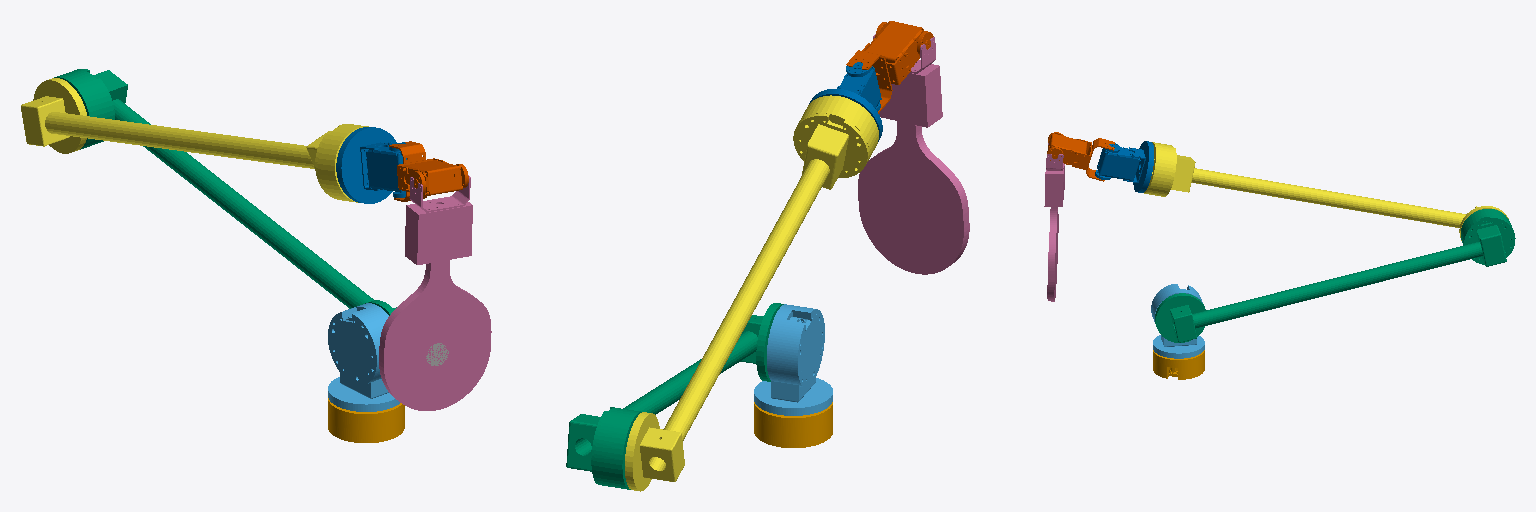
The robot description file, URDF, robot "tennis_player_bot":
<?xml version="1.0" ?>
<robot name="tennis_player_bot">

<material name="silver">
  <color rgba="0.700 0.700 0.700 1.000"/>
</material>

<link name="base_link">
  <inertial>
    <origin xyz="0.0032512986429543357 0.00020816639070417385 0.020789507513805882" rpy="0 0 0"/>
    <mass value="1.745901748133326"/>
    <inertia ixx="0.0011956848580423891" iyy="0.0011467821826484145" izz="0.0018948839982281653" ixy="-1.3515159114245922e-05" iyz="3.408751819674677e-06" ixz="-1.3187187417668591e-05"/>
  </inertial>
  <visual>
    <origin xyz="0 0 0" rpy="0 0 0"/>
    <geometry>
      <mesh filename="package://tennis_player_bot/meshes/base_link.stl" scale="0.001 0.001 0.001"/>
    </geometry>
    <material name="silver"/>
    <material/>
  </visual>
  <collision>
    <origin xyz="0 0 0" rpy="0 0 0"/>
    <geometry>
      <mesh filename="package://tennis_player_bot/meshes/base_link.stl" scale="0.001 0.001 0.001"/>
    </geometry>
  </collision>
</link>

<link name="link11">
  <inertial>
    <origin xyz="-0.0007496042612608893 -0.0003450000512975077 0.0506780692966114" rpy="0 0 0"/>
    <mass value="2.466802512638024"/>
    <inertia ixx="0.0040481047604247755" iyy="0.0032971733819744525" izz="0.0018405145912772296" ixy="0.00012848963394801227" iyz="2.5695094292537527e-05" ixz="1.810660767914327e-05"/>
  </inertial>
  <visual>
    <origin xyz="-0.004 -0.0 -0.0415" rpy="0 0 0"/>
    <geometry>
      <mesh filename="package://tennis_player_bot/meshes/link11.stl" scale="0.001 0.001 0.001"/>
    </geometry>
    <material name="silver"/>
    <material/>
  </visual>
  <collision>
    <origin xyz="-0.004 -0.0 -0.0415" rpy="0 0 0"/>
    <geometry>
      <mesh filename="package://tennis_player_bot/meshes/link11.stl" scale="0.001 0.001 0.001"/>
    </geometry>
  </collision>
</link>

<link name="link21">
  <inertial>
    <origin xyz="-0.05274635772139816 0.36565424086879056 0.07219767724014502" rpy="0 0 0"/>
    <mass value="4.18904362063526"/>
    <inertia ixx="0.23849012204239617" iyy="0.022147013255569364" izz="0.23943346179668612" ixy="0.04725189342993831" iyz="-0.045150824234903075" ixz="0.009432202370029365"/>
  </inertial>
  <visual>
    <origin xyz="-0.023044 -0.003201 -0.110417" rpy="0 0 0"/>
    <geometry>
      <mesh filename="package://tennis_player_bot/meshes/link21.stl" scale="0.001 0.001 0.001"/>
    </geometry>
    <material name="silver"/>
    <material/>
  </visual>
  <collision>
    <origin xyz="-0.023044 -0.003201 -0.110417" rpy="0 0 0"/>
    <geometry>
      <mesh filename="package://tennis_player_bot/meshes/link21.stl" scale="0.001 0.001 0.001"/>
    </geometry>
  </collision>
</link>

<link name="link31">
  <inertial>
    <origin xyz="0.037676355295301237 -0.3790942096583749 0.09993796143896319" rpy="0 0 0"/>
    <mass value="4.1731758749862395"/>
    <inertia ixx="0.268564329913324" iyy="0.02624821743989647" izz="0.2565863142198408" ixy="0.037776002486565104" iyz="0.06591173346759693" ixz="-0.010020545727296395"/>
  </inertial>
  <visual>
    <origin xyz="0.101203 -0.542968 -0.218674" rpy="0 0 0"/>
    <geometry>
      <mesh filename="package://tennis_player_bot/meshes/link31.stl" scale="0.001 0.001 0.001"/>
    </geometry>
    <material name="silver"/>
    <material/>
  </visual>
  <collision>
    <origin xyz="0.101203 -0.542968 -0.218674" rpy="0 0 0"/>
    <geometry>
      <mesh filename="package://tennis_player_bot/meshes/link31.stl" scale="0.001 0.001 0.001"/>
    </geometry>
  </collision>
</link>

<link name="link41">
  <inertial>
    <origin xyz="0.00471564668433672 -0.02732509003557252 0.007657759398025155" rpy="0 0 0"/>
    <mass value="1.0430025260758924"/>
    <inertia ixx="0.0012605823289593698" iyy="0.0008177564199379483" izz="0.001125109998628332" ixy="7.541579629199643e-05" iyz="9.667262457412756e-05" ixz="-2.8476751138858947e-05"/>
  </inertial>
  <visual>
    <origin xyz="0.02881 0.057138 -0.377644" rpy="0 0 0"/>
    <geometry>
      <mesh filename="package://tennis_player_bot/meshes/link41.stl" scale="0.001 0.001 0.001"/>
    </geometry>
    <material name="silver"/>
    <material/>
  </visual>
  <collision>
    <origin xyz="0.02881 0.057138 -0.377644" rpy="0 0 0"/>
    <geometry>
      <mesh filename="package://tennis_player_bot/meshes/link41.stl" scale="0.001 0.001 0.001"/>
    </geometry>
  </collision>
</link>

<link name="link51">
  <inertial>
    <origin xyz="-0.004527161069972353 -0.07570016570955497 -0.013329447088193724" rpy="0 0 0"/>
    <mass value="0.5913059427072911"/>
    <inertia ixx="0.0004863955743631687" iyy="0.00028340326725498355" izz="0.0005545748428425479" ixy="-6.976199802226531e-06" iyz="8.034607593396942e-05" ixz="6.246198123573653e-06"/>
  </inertial>
  <visual>
    <origin xyz="0.015274 0.117131 -0.427156" rpy="0 0 0"/>
    <geometry>
      <mesh filename="package://tennis_player_bot/meshes/link51.stl" scale="0.001 0.001 0.001"/>
    </geometry>
    <material name="silver"/>
    <material/>
  </visual>
  <collision>
    <origin xyz="0.015274 0.117131 -0.427156" rpy="0 0 0"/>
    <geometry>
      <mesh filename="package://tennis_player_bot/meshes/link51.stl" scale="0.001 0.001 0.001"/>
    </geometry>
  </collision>
</link>

<link name="link61">
  <inertial>
    <origin xyz="0.026167147591899243 -0.0049238598741725426 -0.15456446509579097" rpy="0 0 0"/>
    <mass value="3.2230966737650197"/>
    <inertia ixx="0.0215123931155069" iyy="0.02450343937986313" izz="0.0033008247029437388" ixy="0.00010779727936325104" iyz="-0.00048659607540865735" ixz="-0.0008396729745024298"/>
  </inertial>
  <visual>
    <origin xyz="0.052299 0.216045 -0.422105" rpy="0 0 0"/>
    <geometry>
      <mesh filename="package://tennis_player_bot/meshes/link61.stl" scale="0.001 0.001 0.001"/>
    </geometry>
    <material name="silver"/>
    <material/>
  </visual>
  <collision>
    <origin xyz="0.052299 0.216045 -0.422105" rpy="0 0 0"/>
    <geometry>
      <mesh filename="package://tennis_player_bot/meshes/link61.stl" scale="0.001 0.001 0.001"/>
    </geometry>
  </collision>
</link>

<link name="paddle_center1">
  <inertial>
    <origin xyz="0.00010667337392668633 0.0024966191096613133 -6.119353965117202e-05" rpy="0 0 0"/>
    <mass value="0.027744190122014827"/>
    <inertia ixx="1.6211466780931098e-06" iyy="3.1175767253304332e-06" izz="1.619320166204542e-06" ixy="6.403982343001309e-08" iyz="-3.6916867814876936e-08" ixz="-1.5769769806943564e-09"/>
  </inertial>
  <visual>
    <origin xyz="0.029682 0.228834 -0.196078" rpy="0 0 0"/>
    <geometry>
      <mesh filename="package://tennis_player_bot/meshes/paddle_center1.stl" scale="0.001 0.001 0.001"/>
    </geometry>
    <material name="silver"/>
    <material/>
  </visual>
  <collision>
    <origin xyz="0.029682 0.228834 -0.196078" rpy="0 0 0"/>
    <geometry>
      <mesh filename="package://tennis_player_bot/meshes/paddle_center1.stl" scale="0.001 0.001 0.001"/>
    </geometry>
  </collision>
</link>

<joint name="joint0" type="continuous">
  <origin xyz="0.004 0.0 0.0415" rpy="0 0 0"/>
  <parent link="base_link"/>
  <child link="link11"/>
  <axis xyz="-0.0 0.0 1.0"/>
</joint>
<transmission name="joint0_tran">
  <type>transmission_interface/SimpleTransmission</type>
  <joint name="joint0">
    <hardwareInterface>PositionJointInterface</hardwareInterface>
  </joint>
  <actuator name="joint0_actr">
    <hardwareInterface>PositionJointInterface</hardwareInterface>
    <mechanicalReduction>1</mechanicalReduction>
  </actuator>
</transmission>

<joint name="joint1" type="continuous">
  <origin xyz="0.019044 0.003201 0.068917" rpy="0 0 0"/>
  <parent link="link11"/>
  <child link="link21"/>
  <axis xyz="0.985635 0.168891 0.0"/>
</joint>
<transmission name="joint1_tran">
  <type>transmission_interface/SimpleTransmission</type>
  <joint name="joint1">
    <hardwareInterface>PositionJointInterface</hardwareInterface>
  </joint>
  <actuator name="joint1_actr">
    <hardwareInterface>PositionJointInterface</hardwareInterface>
    <mechanicalReduction>1</mechanicalReduction>
  </actuator>
</transmission>

<joint name="joint2" type="continuous">
  <origin xyz="-0.124247 0.539767 0.108257" rpy="0 0 0"/>
  <parent link="link21"/>
  <child link="link31"/>
  <axis xyz="-0.985635 -0.168891 -0.0"/>
</joint>
<transmission name="joint2_tran">
  <type>transmission_interface/SimpleTransmission</type>
  <joint name="joint2">
    <hardwareInterface>PositionJointInterface</hardwareInterface>
  </joint>
  <actuator name="joint2_actr">
    <hardwareInterface>PositionJointInterface</hardwareInterface>
    <mechanicalReduction>1</mechanicalReduction>
  </actuator>
</transmission>

<joint name="joint3" type="continuous">
  <origin xyz="0.072393 -0.600106 0.15897" rpy="0 0 0"/>
  <parent link="link31"/>
  <child link="link41"/>
  <axis xyz="0.163324 -0.953144 0.254642"/>
</joint>
<transmission name="joint3_tran">
  <type>transmission_interface/SimpleTransmission</type>
  <joint name="joint3">
    <hardwareInterface>PositionJointInterface</hardwareInterface>
  </joint>
  <actuator name="joint3_actr">
    <hardwareInterface>PositionJointInterface</hardwareInterface>
    <mechanicalReduction>1</mechanicalReduction>
  </actuator>
</transmission>

<joint name="joint4" type="continuous">
  <origin xyz="0.013536 -0.059993 0.049512" rpy="0 0 0"/>
  <parent link="link41"/>
  <child link="link51"/>
  <axis xyz="-0.054839 -0.266479 -0.962279"/>
</joint>
<transmission name="joint4_tran">
  <type>transmission_interface/SimpleTransmission</type>
  <joint name="joint4">
    <hardwareInterface>PositionJointInterface</hardwareInterface>
  </joint>
  <actuator name="joint4_actr">
    <hardwareInterface>PositionJointInterface</hardwareInterface>
    <mechanicalReduction>1</mechanicalReduction>
  </actuator>
</transmission>

<joint name="joint5" type="continuous">
  <origin xyz="-0.037025 -0.098914 -0.005051" rpy="0 0 0"/>
  <parent link="link51"/>
  <child link="link61"/>
  <axis xyz="0.99804 -0.043736 -0.044766"/>
</joint>
<transmission name="joint5_tran">
  <type>transmission_interface/SimpleTransmission</type>
  <joint name="joint5">
    <hardwareInterface>PositionJointInterface</hardwareInterface>
  </joint>
  <actuator name="joint5_actr">
    <hardwareInterface>PositionJointInterface</hardwareInterface>
    <mechanicalReduction>1</mechanicalReduction>
  </actuator>
</transmission>

<joint name="Rigid_9" type="fixed">
  <origin xyz="0.022617 -0.012789 -0.226027" rpy="0 0 0"/>
  <parent link="link61"/>
  <child link="paddle_center1"/>
</joint>

</robot>

--- Facts derived from the render (not from the file) ---
3 views of the same robot in one strip: view 1: azimuth 30°, elevation 25°; view 2: azimuth 150°, elevation 25°; view 3: azimuth 270°, elevation 25° (orthographic).
Robot: tennis_player_bot — 8 links, 7 joints (6 continuous, 1 fixed); root link base_link; default pose: all joints at 0.
Links seen in each view (by area): view 1: link61, link31, link21, link11, link41, link51, base_link; view 2: link31, link61, link21, link11, link51, base_link, link41; view 3: link21, link31, link41, link61, link51, link11, base_link.
Boxes of the visible links, <box> form: link61: <box>379,175,491,410</box>; link31: <box>21,78,368,202</box>; link21: <box>54,69,396,315</box>; link11: <box>328,303,399,411</box>; link41: <box>336,127,406,203</box>; link51: <box>389,141,468,201</box>; base_link: <box>328,398,404,442</box>; link31: <box>625,95,878,491</box>; link61: <box>858,34,969,274</box>; link21: <box>566,303,783,489</box>; link11: <box>754,304,832,415</box>; link51: <box>846,21,933,113</box>; base_link: <box>754,402,832,447</box>; link41: <box>809,62,882,141</box>; link21: <box>1155,209,1515,342</box>; link31: <box>1144,142,1508,240</box>; link41: <box>1095,141,1153,192</box>; link61: <box>1044,143,1064,301</box>; link51: <box>1047,132,1114,181</box>; link11: <box>1151,284,1204,358</box>; base_link: <box>1153,350,1204,379</box>.
Size in the robot's own frame: 0.2297 by 0.8328 by 0.4386 metres.
Meshes: 8 distinct files referenced, 8 mesh visuals loaded (8 binary STL).